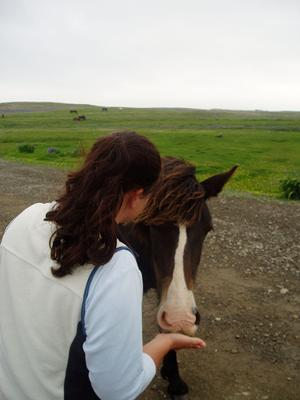person: (2, 131, 206, 400)
